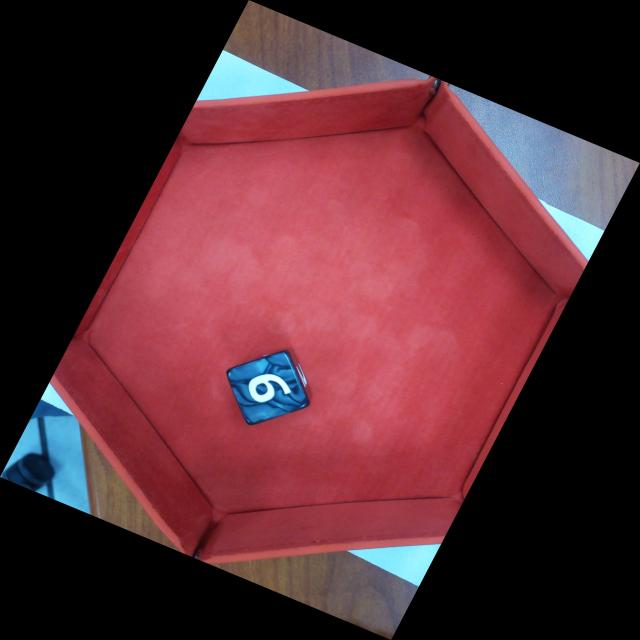dice: (223, 348, 312, 429)
